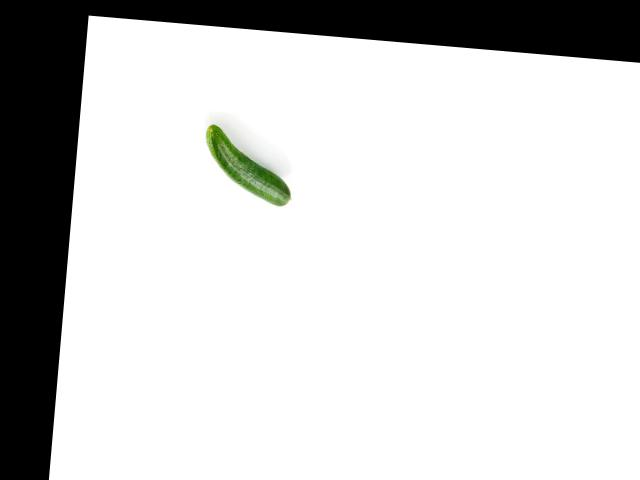cucumber: (201, 123, 296, 206)
